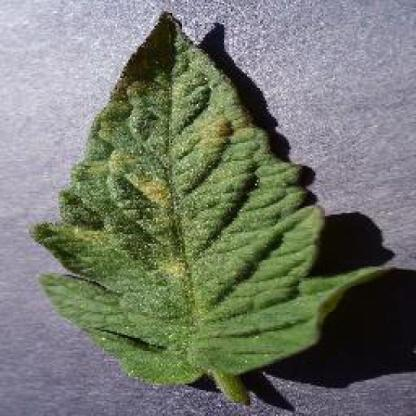Tomato_Leaf_Mold: (33, 11, 387, 383)
